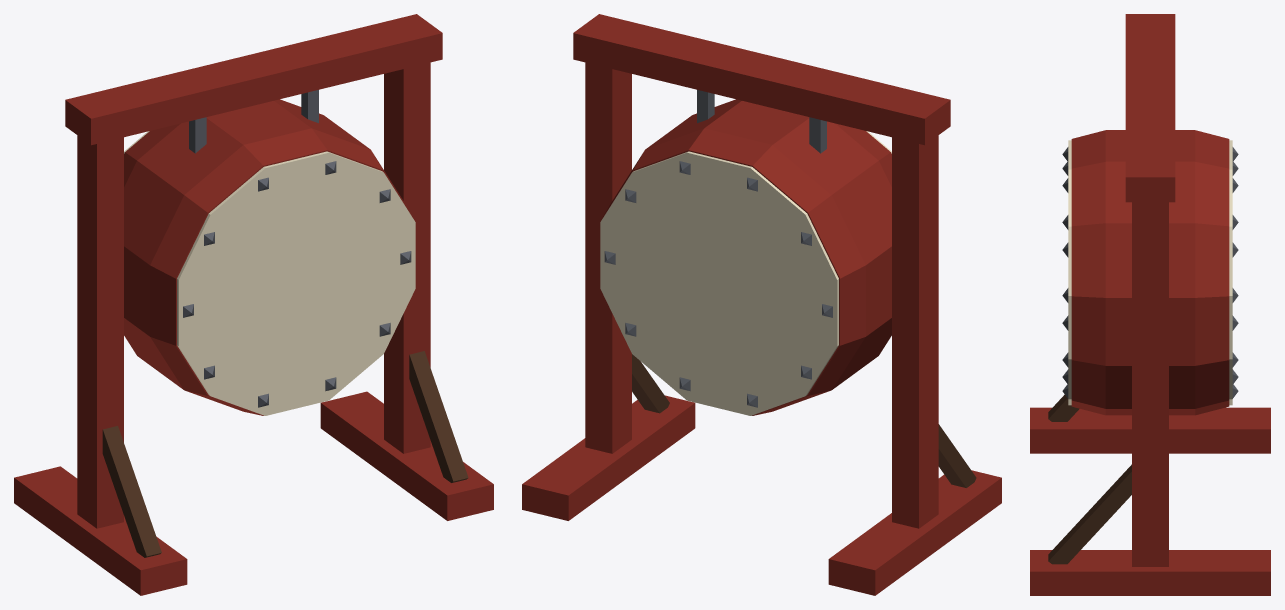
The model's file is fn_drum.glb.
3 renders of one model, left to right at view 1: azimuth 30°, elevation 25°; view 2: azimuth 150°, elevation 25°; view 3: azimuth 270°, elevation 25°, orthographic. The views are drawn at different scales.
Parts seen in each view (by area): view 1: fn_drum__wood_red, fn_drum__paper, fn_drum__wood_dark, fn_drum__metal; view 2: fn_drum__wood_red, fn_drum__paper, fn_drum__metal, fn_drum__wood_dark; view 3: fn_drum__wood_red, fn_drum__wood_dark, fn_drum__paper, fn_drum__metal.
Boxes of the visible parts, x1,y1,x2,y2 form: fn_drum__wood_red: (14, 14, 493, 595); fn_drum__paper: (124, 131, 415, 415); fn_drum__wood_dark: (102, 351, 468, 557); fn_drum__metal: (183, 90, 411, 407); fn_drum__wood_red: (522, 14, 1001, 595); fn_drum__paper: (600, 131, 891, 415); fn_drum__metal: (604, 90, 832, 407); fn_drum__wood_dark: (632, 354, 976, 487); fn_drum__wood_red: (1030, 14, 1270, 595); fn_drum__wood_dark: (1048, 394, 1131, 564); fn_drum__paper: (1068, 140, 1232, 405); fn_drum__metal: (1062, 147, 1238, 398).
Bounding box in the file's own units: 12.55 × 14.95 × 7.8.
